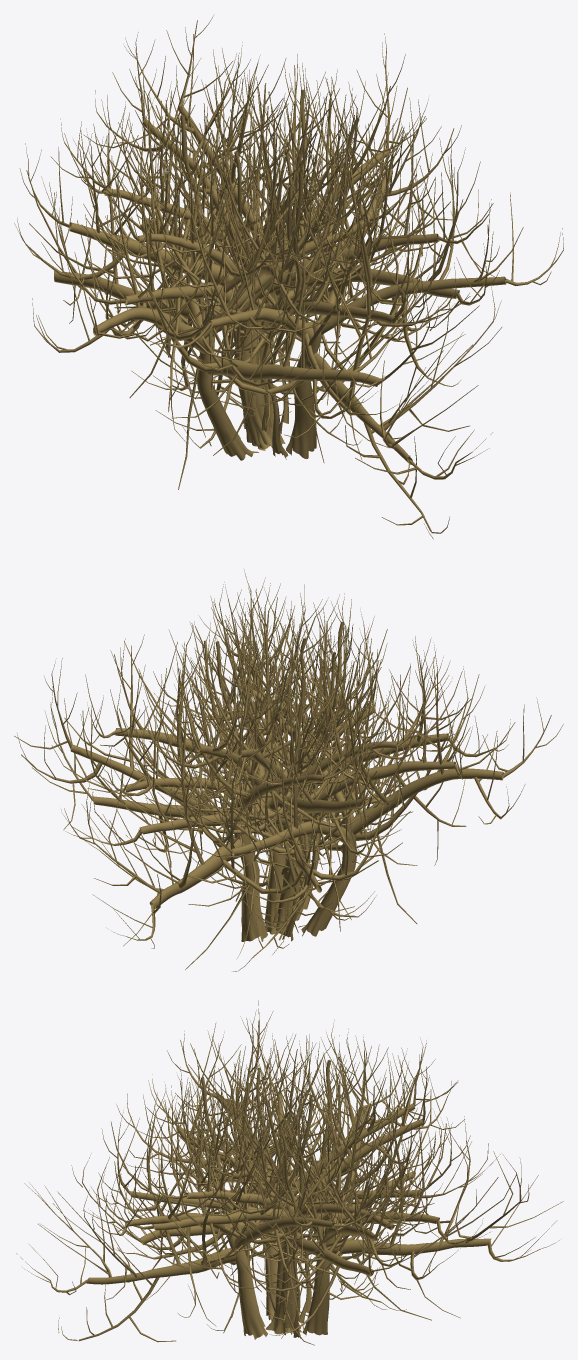
Rendered from Bush_03.fbx.
The picture shows the model from 3 angles, top to bottom: view 1: azimuth 30°, elevation 25°; view 2: azimuth 150°, elevation 25°; view 3: azimuth 270°, elevation 25°; orthographic projection. The views are drawn at different scales.
Visible parts, largest first — view 1: Bush; view 2: Bush; view 3: Bush.
Boxes of the visible parts, x1,y1,x2,y2 form: Bush: [14, 14, 563, 539]; Bush: [14, 569, 563, 971]; Bush: [16, 1000, 563, 1345].
Bounding box in the file's own units: 71.79 × 52.92 × 90.37.
